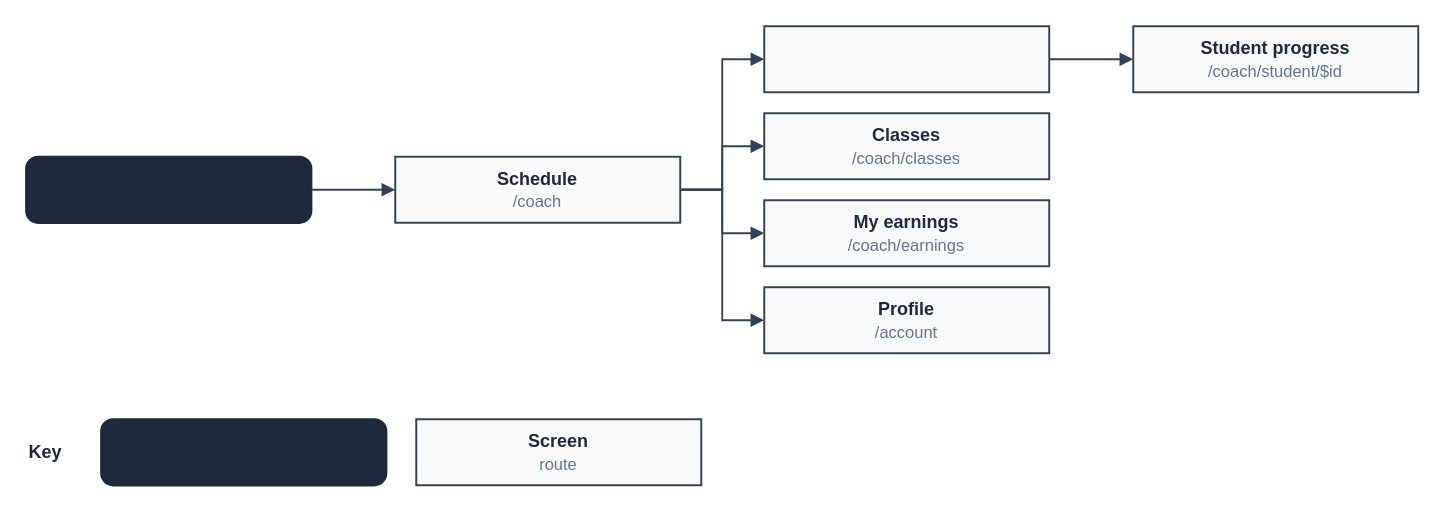
Some shapes in this 1446 by 513 pixel diagram are drawn without their labels. The centre of each missing label's shape, as x and y in pixels:
Attendance /coach/attendance: point (906, 59)
Entry point route: point (243, 451)
Sign in /login: point (168, 189)
